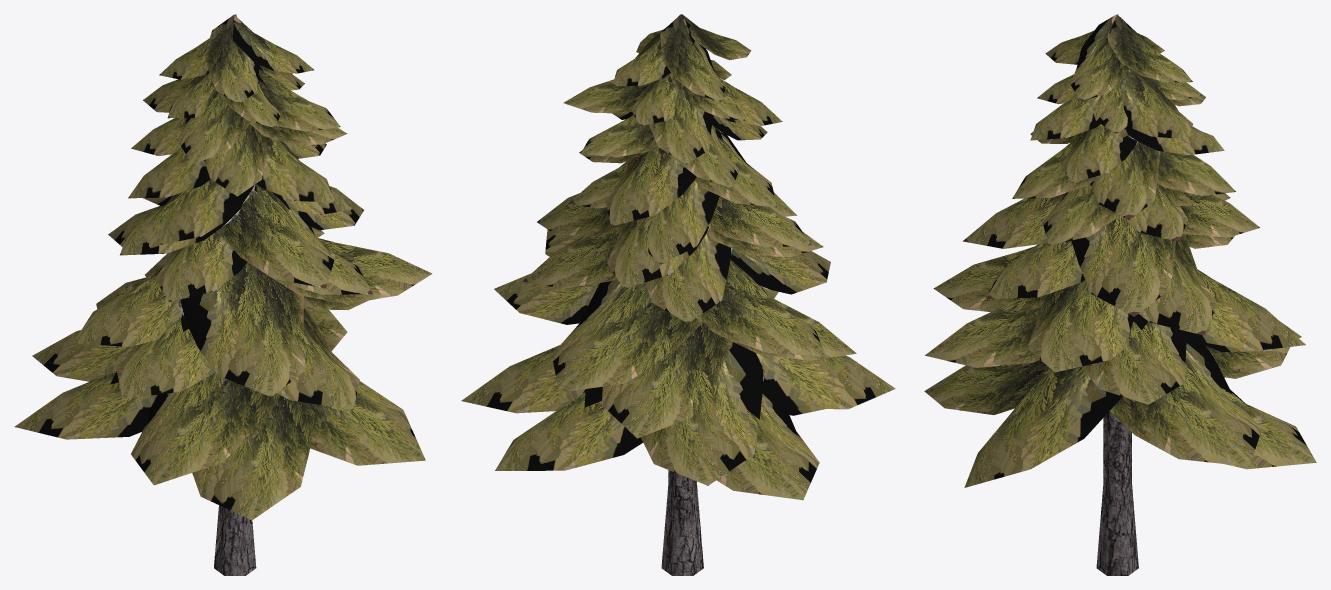
File: tree.glb
3 renders of one model, left to right at view 1: azimuth 30°, elevation 25°; view 2: azimuth 150°, elevation 25°; view 3: azimuth 270°, elevation 25°, orthographic.
Visible parts, largest first — view 1: Pine_b_0; view 2: Pine_b_0; view 3: Pine_b_0.
Boxes of the visible parts, x1,y1,x2,y2 form: Pine_b_0: [14, 14, 432, 575]; Pine_b_0: [461, 14, 895, 575]; Pine_b_0: [924, 14, 1316, 575].
Size of the model in its own units: 12.36 by 19 by 12.21.
1 material, 1 textured.
